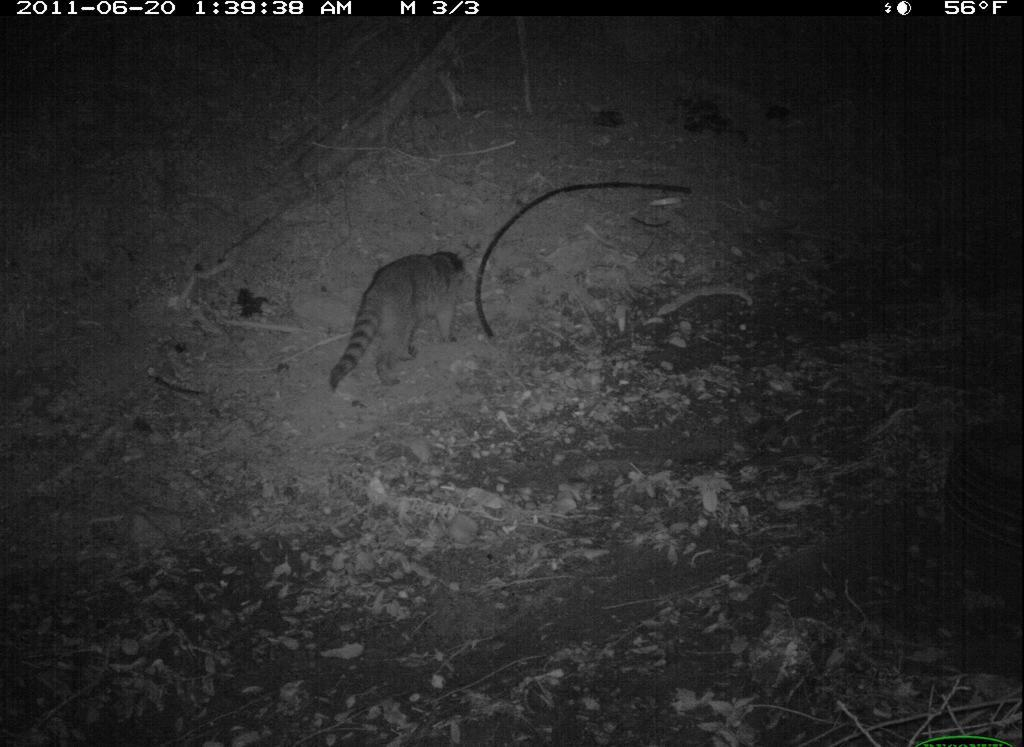raccoon: (318, 241, 477, 406)
